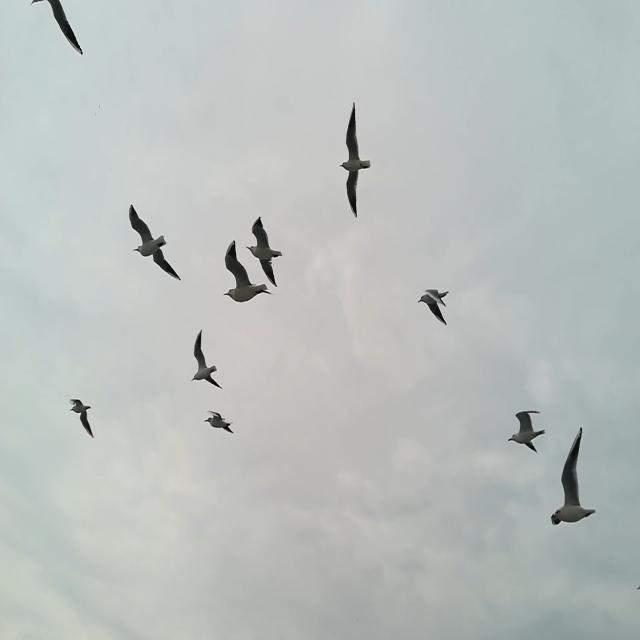bird: (549, 426, 597, 526), (129, 204, 182, 283), (338, 103, 372, 217), (224, 238, 276, 304), (28, 0, 84, 56), (248, 218, 284, 284), (191, 329, 224, 392), (507, 408, 545, 456), (417, 285, 450, 325), (69, 397, 97, 437), (205, 409, 234, 435), (94, 112, 97, 117), (98, 105, 101, 110)
